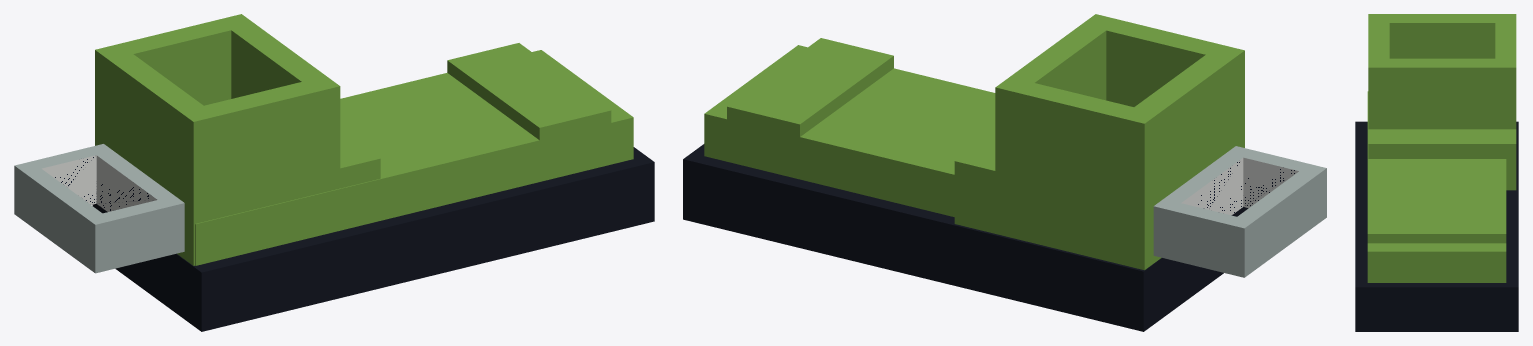
File: JumpCharme.fbx
The picture shows the model from 3 angles, left to right: view 1: azimuth 30°, elevation 25°; view 2: azimuth 150°, elevation 25°; view 3: azimuth 270°, elevation 25°; orthographic projection. The views are drawn at different scales.
Visible parts, largest first — view 1: JumpCharm; view 2: JumpCharm; view 3: JumpCharm.
Part boxes in pixels (x1,y1,x2,y2): JumpCharm: [14, 14, 654, 331]; JumpCharm: [683, 14, 1326, 331]; JumpCharm: [1355, 14, 1518, 331].
Bounding box in the file's own units: 1.44 × 0.5154 × 0.5.
